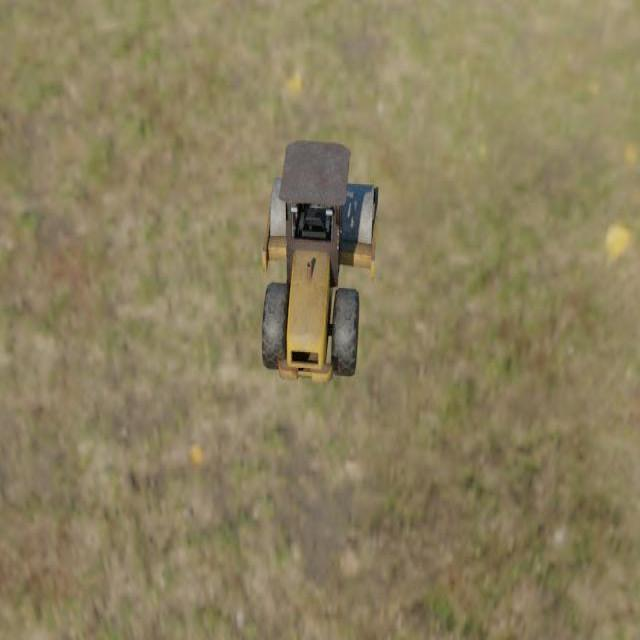Roller: (261, 139, 379, 384)
